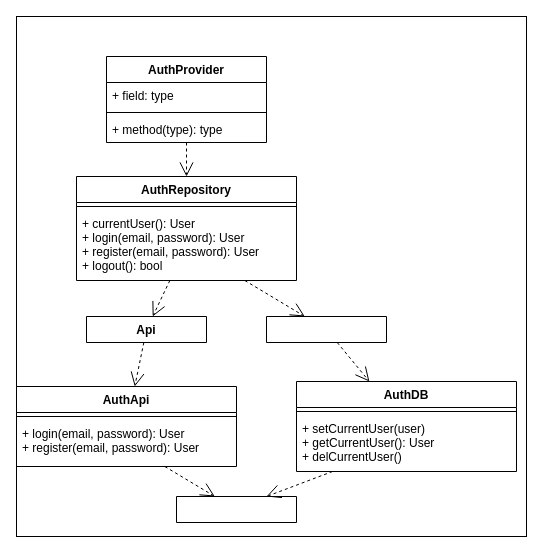
This 543x553 diagram has some shape labels left out. Each missing label, with the centre of its shape:
DB: point 326,329
SharedPreference: point 236,509
